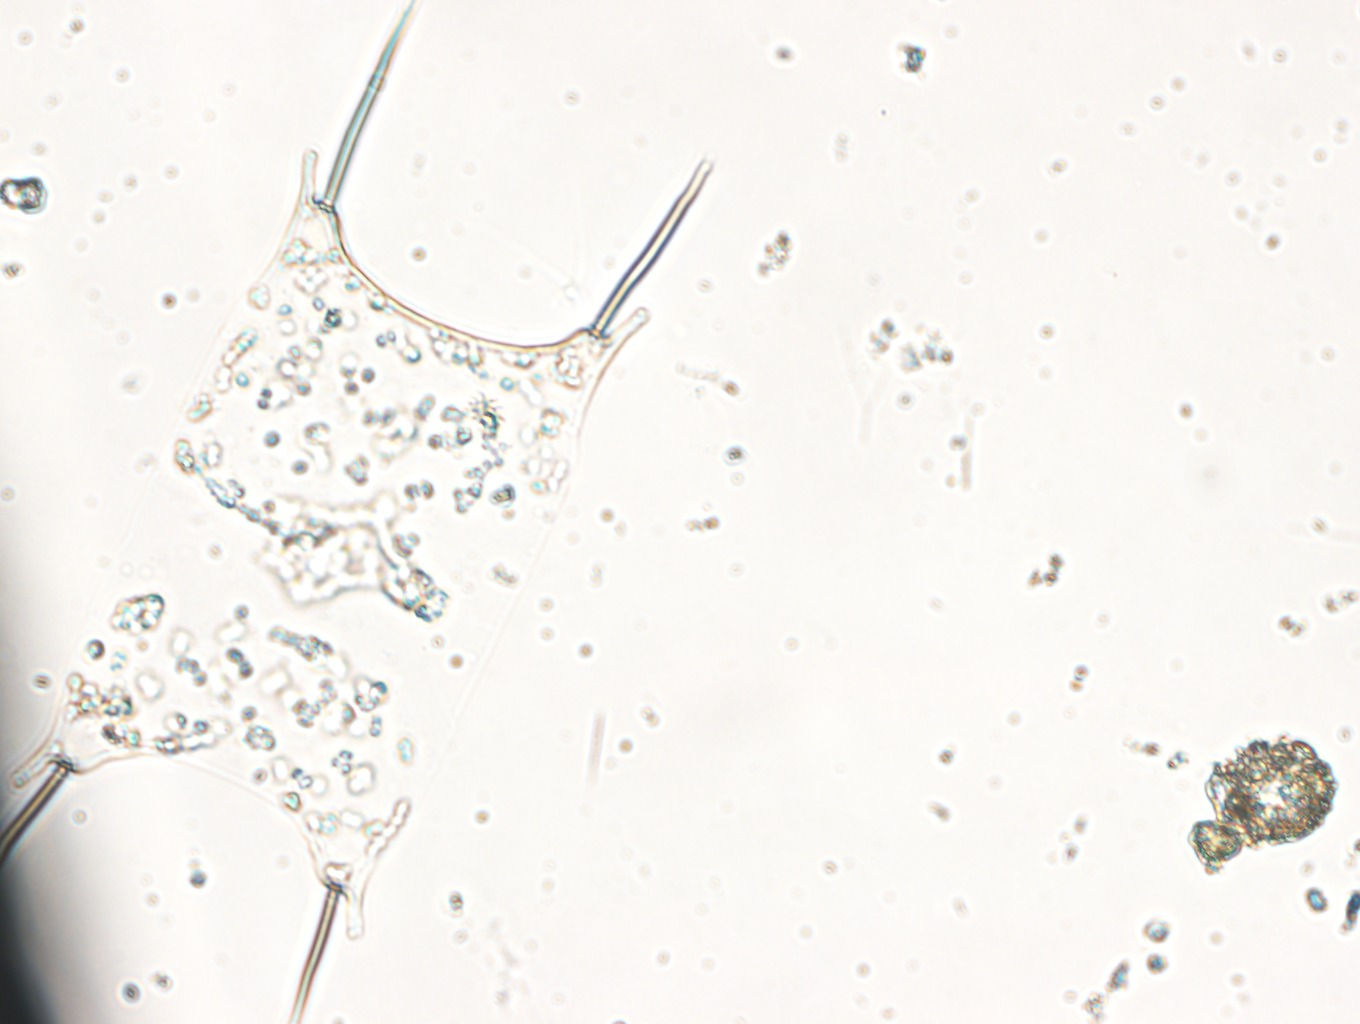biddulphia: (1, 1, 712, 1024)
